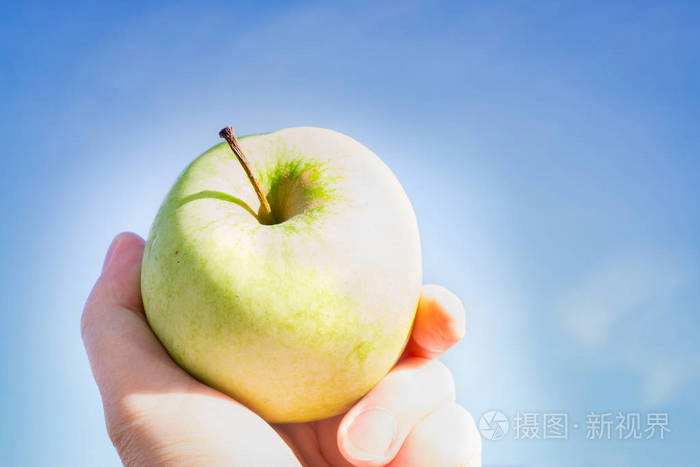no-phone: (69, 116, 489, 467)
